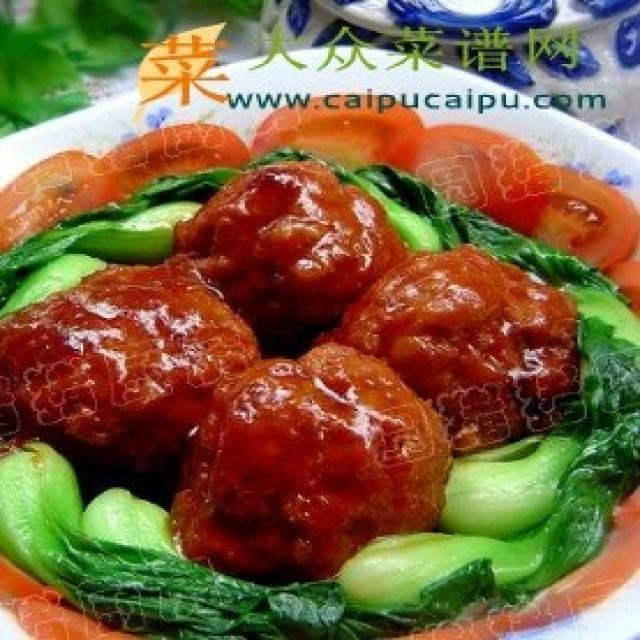Meatball: (171, 345, 451, 586), (0, 245, 263, 501), (319, 244, 584, 446), (155, 161, 409, 347)
